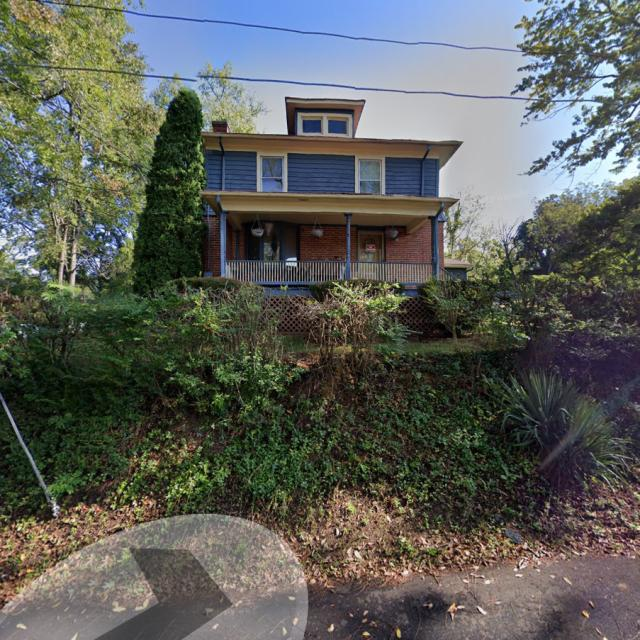House: (200, 95, 474, 339)
